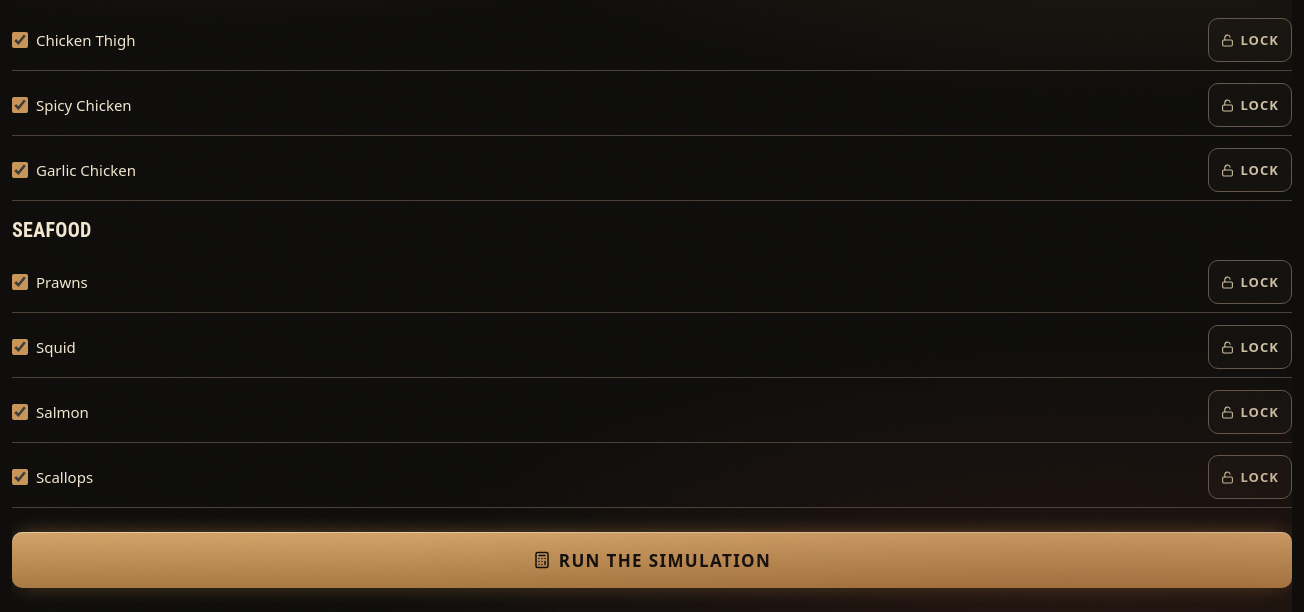
Test: DamagePlanner › proposes a configuration that reaches the target
The image size is (1304, 612).
(page scrolled)
Click the button "Run the simulation" at (652, 560), box [12,532,1292,588]
(page scrolled)
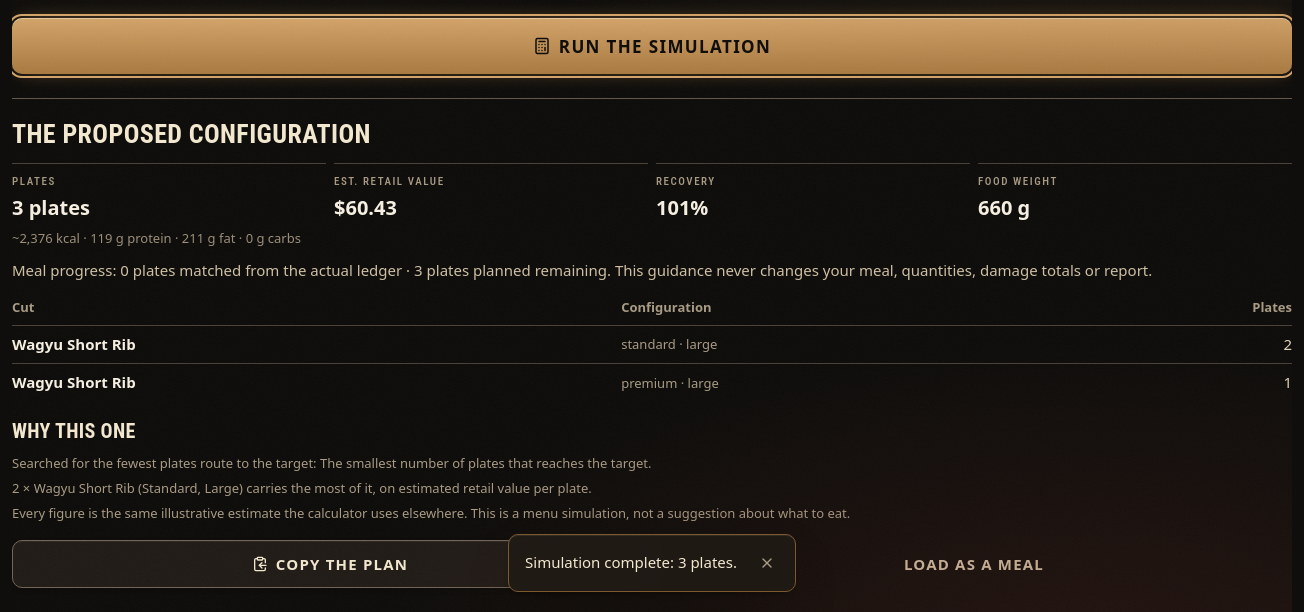
Expected: the element "The proposed configuration" is shown
Expected: the text "Est. retail value" is shown, [334,175,445,188]
Expected: the table is shown, [12,298,1292,402]
